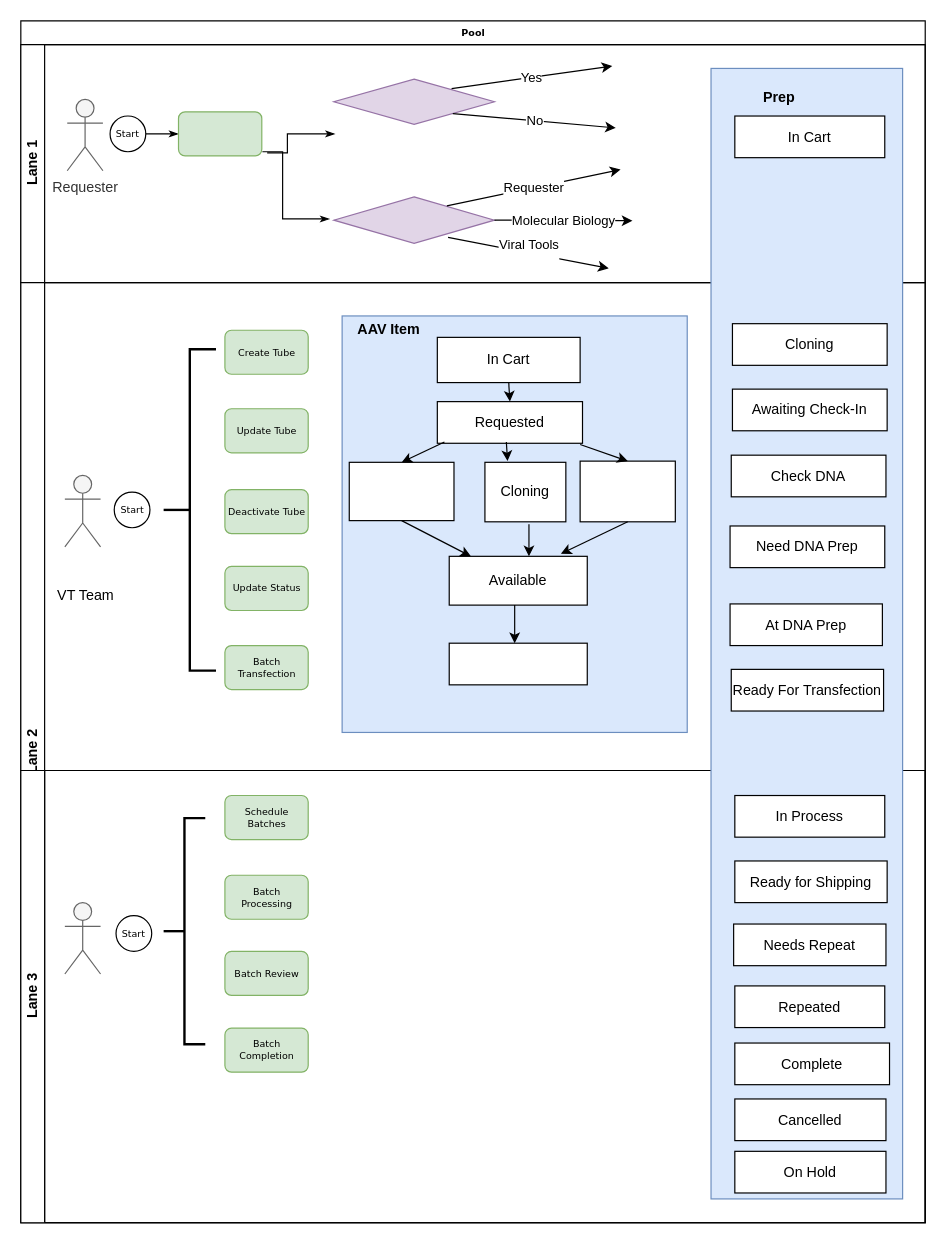
Image size: 946x1244. Some labels were removed from this diagram. Each missing label, with the centre of its shape:
DNA Source: (x=413, y=219)
Enter Request: (x=219, y=133)
Existing Construct: (x=413, y=101)
Manager: (x=82, y=937)
Molecular Biology Creating: (x=401, y=491)
Not Available: (x=517, y=663)
Requester Sending: (x=627, y=491)
